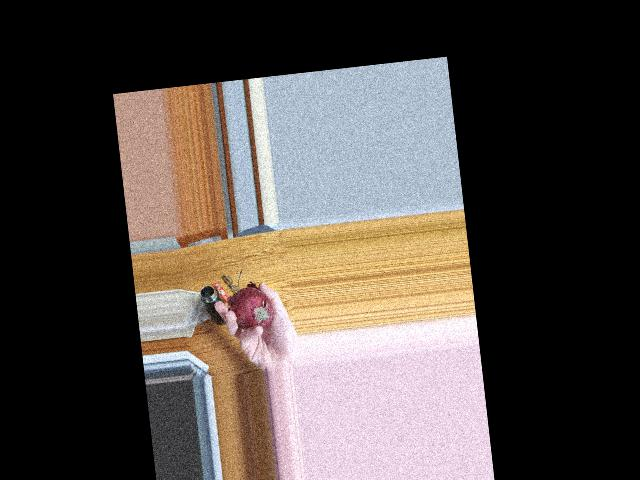onion: (232, 286, 274, 332)
